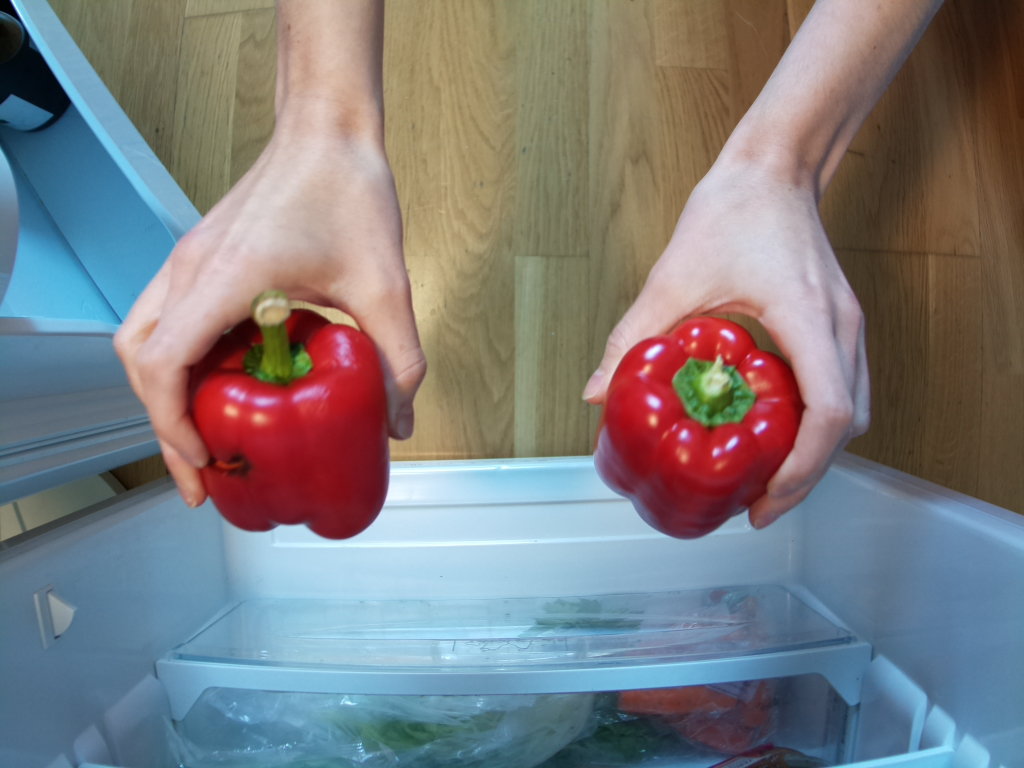pepper: (590, 317, 805, 541)
pepper-bad: (193, 294, 401, 539)
